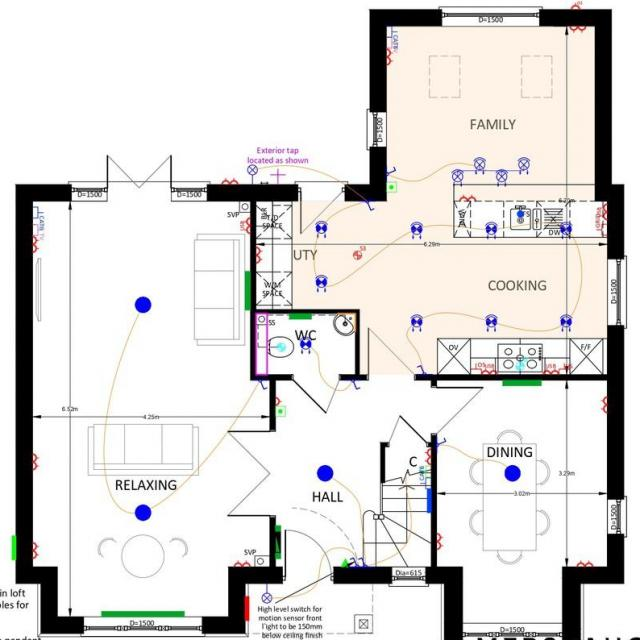BT Entry Point: (340, 558, 350, 566)
Cat 6 Data Socket: (32, 205, 43, 229), (386, 25, 397, 48), (419, 465, 430, 488)
Ceiling Mounted Continuous Extract FanWith Boost Mode Activated By Light Switch: (276, 341, 284, 351)
Ceiling Mounted Continuous Extract FanWith Local Boost Switch: (352, 245, 365, 260)
Co-Ax TV Socket: (32, 222, 43, 240), (386, 36, 397, 51)
Consumer Unit: (275, 530, 280, 552)
Double Socket: (221, 176, 237, 184), (458, 192, 474, 200), (423, 448, 431, 464), (576, 558, 592, 566), (32, 453, 40, 469), (436, 532, 443, 550), (568, 25, 585, 32), (233, 559, 250, 566), (32, 235, 39, 252), (386, 48, 393, 64), (599, 396, 606, 412), (32, 542, 39, 558), (256, 246, 261, 263)
Electric Meter Box: (244, 595, 249, 621)
External Wall Light: (261, 583, 272, 603), (247, 164, 257, 183)
Gas Meter Box: (10, 534, 16, 560)
Grid Switch: (594, 213, 606, 234)
Hob Switch: (558, 363, 571, 373)
Light Switch: (363, 200, 375, 210), (386, 166, 396, 176), (357, 556, 367, 566), (257, 380, 268, 389), (416, 364, 425, 374), (436, 437, 446, 446), (349, 556, 358, 566), (351, 380, 360, 389)
Low Energy Downlighter: (314, 220, 328, 237), (484, 221, 498, 238), (558, 221, 572, 238), (484, 314, 497, 331), (315, 274, 327, 292), (299, 335, 311, 353), (410, 221, 422, 238), (410, 314, 422, 331), (560, 314, 572, 331)
Low Energy Pendant Light: (315, 464, 334, 481), (133, 295, 151, 312), (503, 464, 520, 481), (134, 504, 151, 520)
Outside Socket: (570, 0, 582, 8)
Outside Tap: (268, 168, 284, 183)
Oven Switch: (470, 362, 484, 373)
Programmable Room Thermostat: (385, 181, 396, 192), (275, 405, 285, 415)
Radiator: (101, 610, 184, 616), (501, 379, 541, 385), (244, 270, 249, 310), (275, 524, 280, 558), (288, 313, 310, 319)
Single Socket: (275, 396, 281, 404)
Telephone Socket: (419, 465, 431, 477)
Track Light: (450, 156, 530, 186)
USB Double Socket: (238, 216, 250, 232), (596, 203, 607, 219), (481, 363, 497, 373), (542, 364, 558, 373)
Underfloor Heating Manifold: (426, 488, 431, 512)
Water Entry Position: (516, 209, 523, 217)
